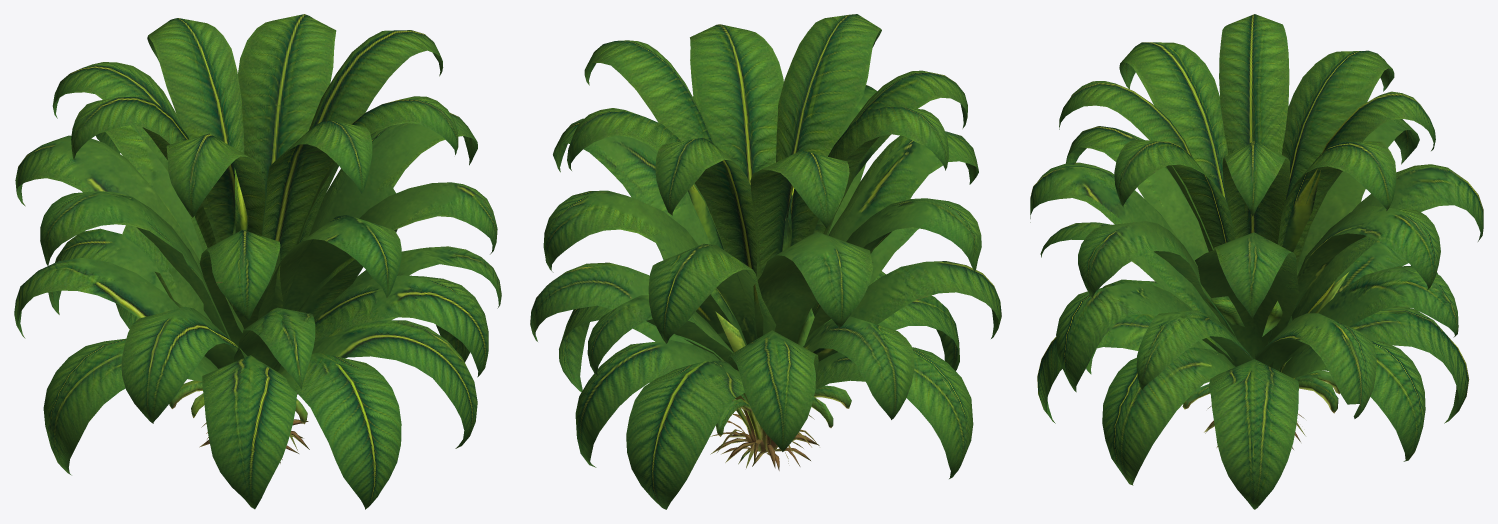
Rendered from Meshy_AI_Emerald_Fern_Bloom_1027212651_texture.glb.
The picture shows the model from 3 angles, left to right: view 1: azimuth 30°, elevation 25°; view 2: azimuth 150°, elevation 25°; view 3: azimuth 270°, elevation 25°; orthographic projection. The views are drawn at different scales.
Bounding box in the file's own units: 1.13 × 1 × 1.13.
1 material, 1 textured.
